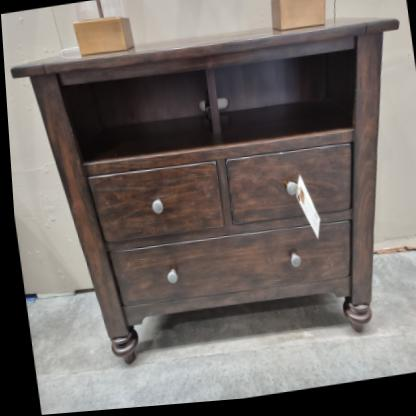Sideboard: (1, 0, 416, 388)
